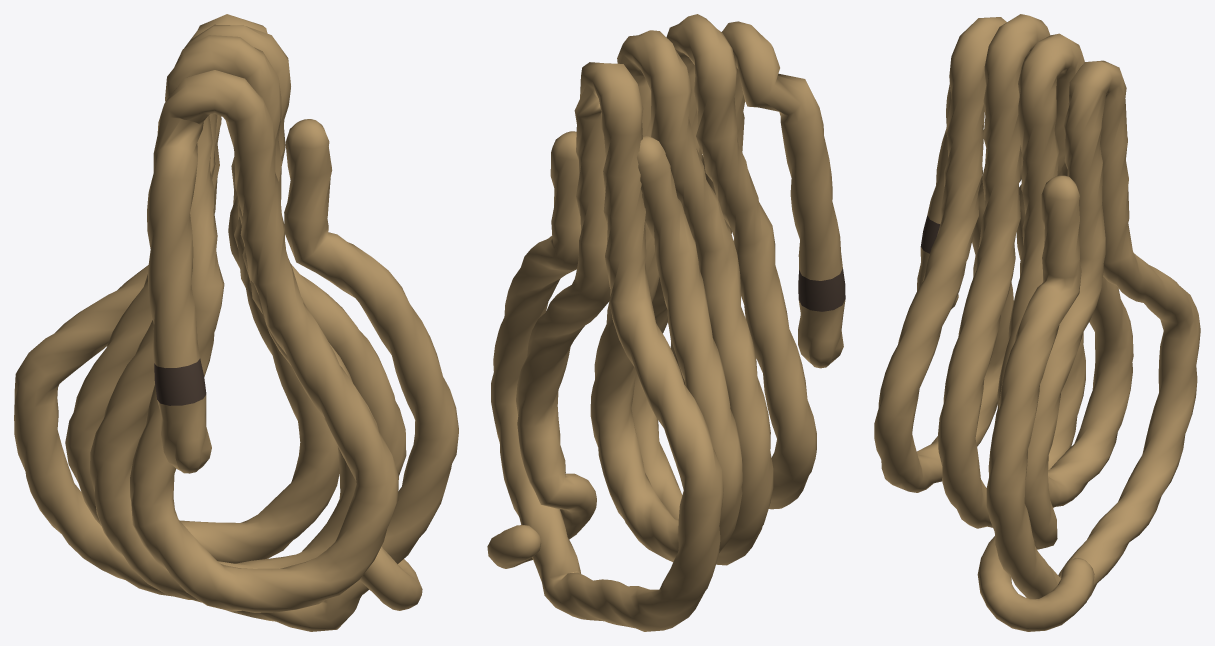
The model's file is w_lasso.glb.
3 renders of one model, left to right at view 1: azimuth 30°, elevation 25°; view 2: azimuth 150°, elevation 25°; view 3: azimuth 270°, elevation 25°, orthographic. The views are drawn at different scales.
Parts seen in each view (by area): view 1: coil_wzA, loop_wzA, coil_wzN; view 2: coil_wzA, loop_wzA, coil_wzN; view 3: coil_wzA, loop_wzA.
Boxes of the visible parts, x1,y1,x2,y2 form: coil_wzA: (65, 24, 398, 612); loop_wzA: (14, 14, 458, 631); coil_wzN: (154, 358, 206, 405); coil_wzA: (590, 14, 845, 565); loop_wzA: (487, 62, 723, 631); coil_wzN: (798, 268, 845, 311); coil_wzA: (874, 14, 1133, 528); loop_wzA: (977, 60, 1200, 631).
Bounding box in the file's own units: 0.203 × 0.3632 × 0.1944.
